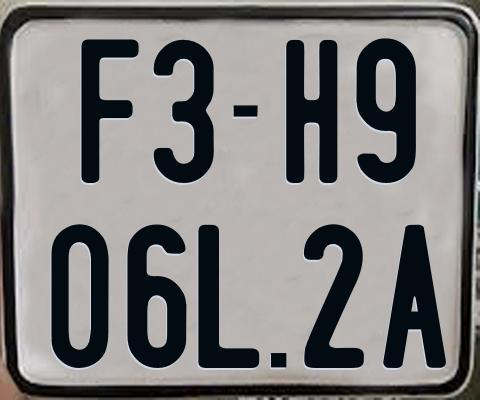0: (49, 222, 110, 367)
2: (301, 223, 361, 372)
3: (152, 37, 218, 181)
6: (125, 223, 189, 367)
9: (353, 36, 419, 187)
A: (382, 223, 450, 366)
F: (81, 38, 142, 188)
H: (286, 39, 340, 188)
L: (195, 224, 256, 368)
